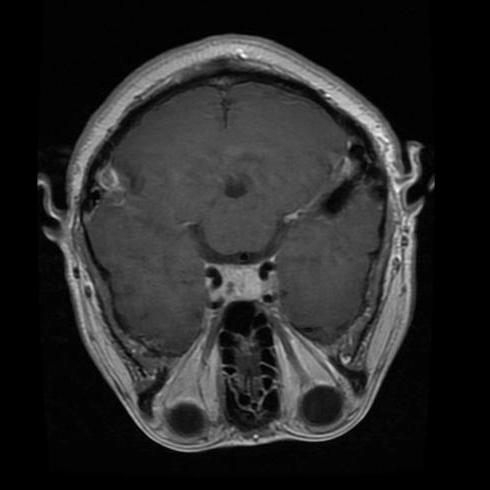Tumour-Pituitary: (188, 248, 291, 318)
